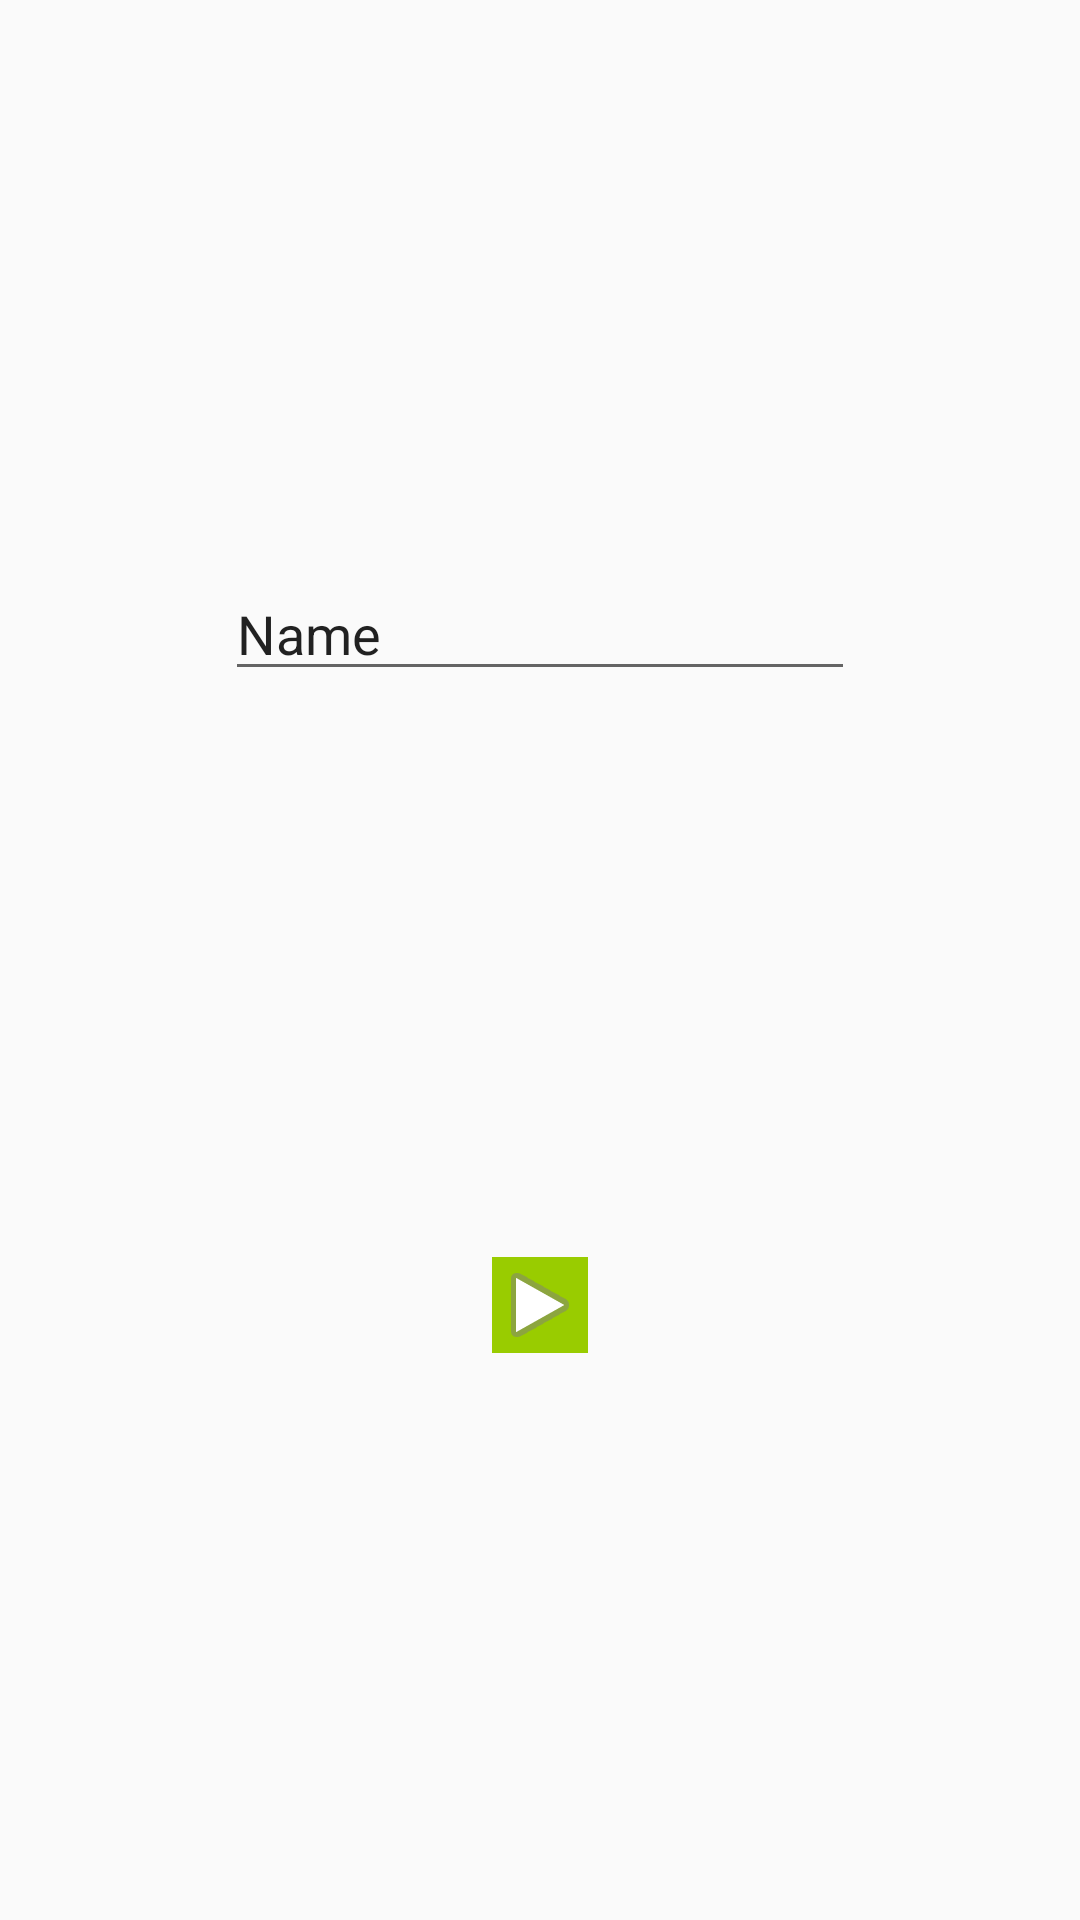

Screen size 1080 × 1920. Icon name, then its center in pixels as point (x, y):
play: point (540, 1305)
